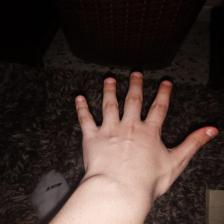five: (72, 69, 219, 199)
